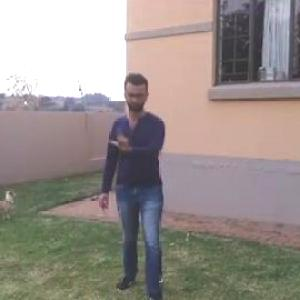land_hand: (105, 117, 141, 159)
